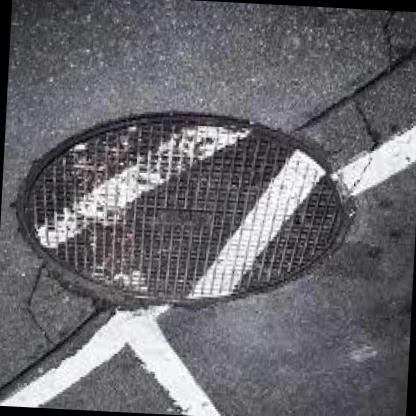manholes: (0, 55, 375, 349)
